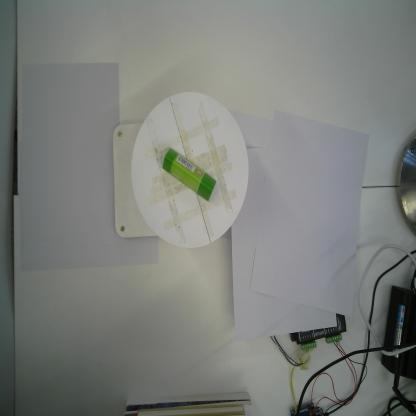Stationery: (160, 146, 217, 204)
